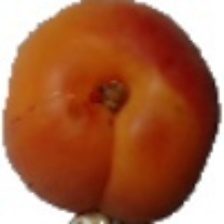apricot: (2, 25, 194, 178)
